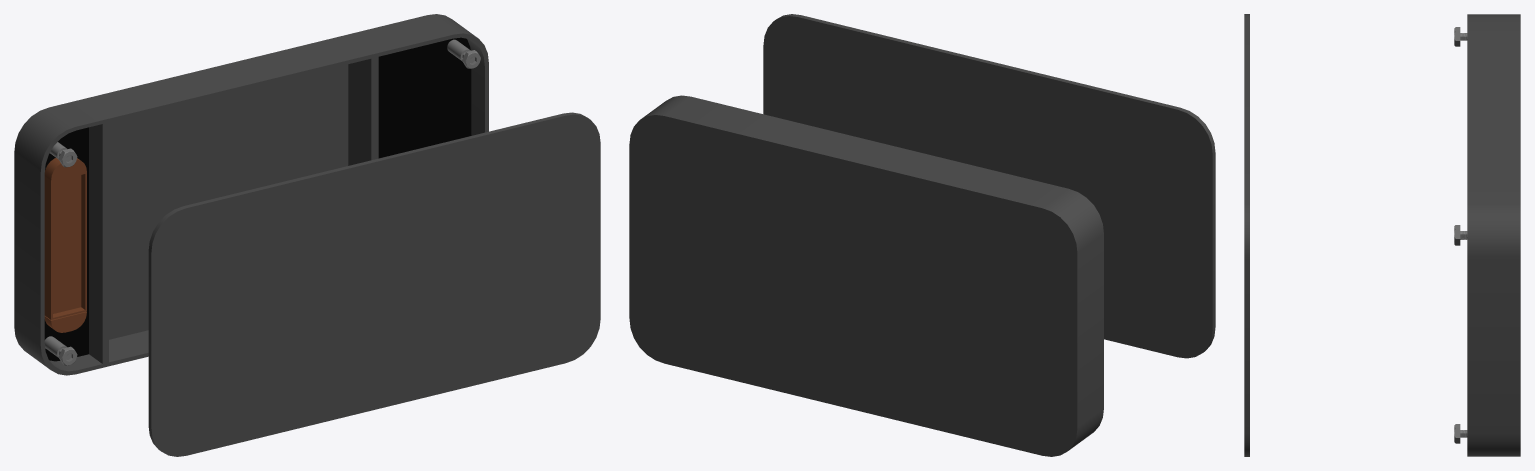
Rendered from GearsPanel.fbx.
3 views of the same model, side by side, from view 1: azimuth 30°, elevation 25°; view 2: azimuth 150°, elevation 25°; view 3: azimuth 270°, elevation 25° (orthographic).
Visible parts, largest first — view 1: FrontPanel, Box, Timer, Timer_Top; view 2: Box, FrontPanel; view 3: Box, FrontPanel.
Part boxes in pixels (bbox=[...]): FrontPanel: bbox=[148, 112, 600, 456]; Box: bbox=[14, 14, 488, 375]; Timer: bbox=[44, 172, 86, 319]; Timer_Top: bbox=[44, 158, 86, 180]; Box: bbox=[629, 95, 1103, 456]; FrontPanel: bbox=[763, 14, 1215, 358]; Box: bbox=[1467, 14, 1520, 456]; FrontPanel: bbox=[1244, 14, 1249, 456].
Bounding box in the file's own units: 380 × 200 × 201.
